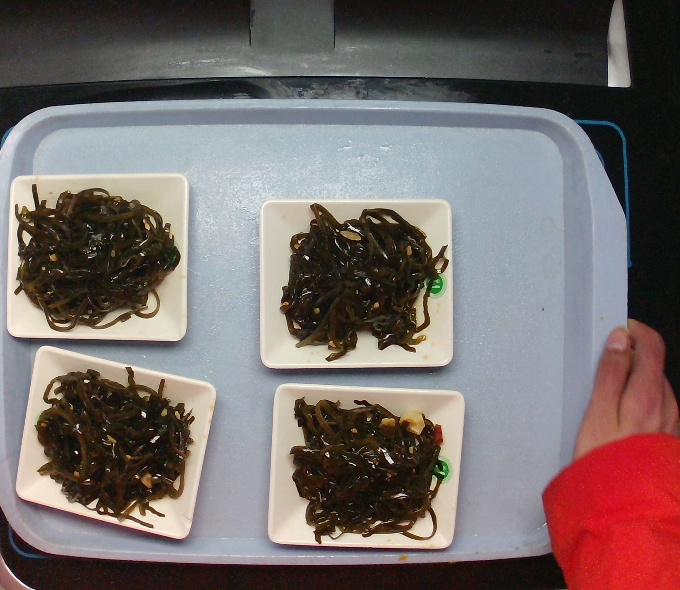wcq-LiangBanHaiDai: (5, 180, 184, 329), (286, 200, 440, 357), (35, 371, 193, 523), (301, 386, 436, 545)
